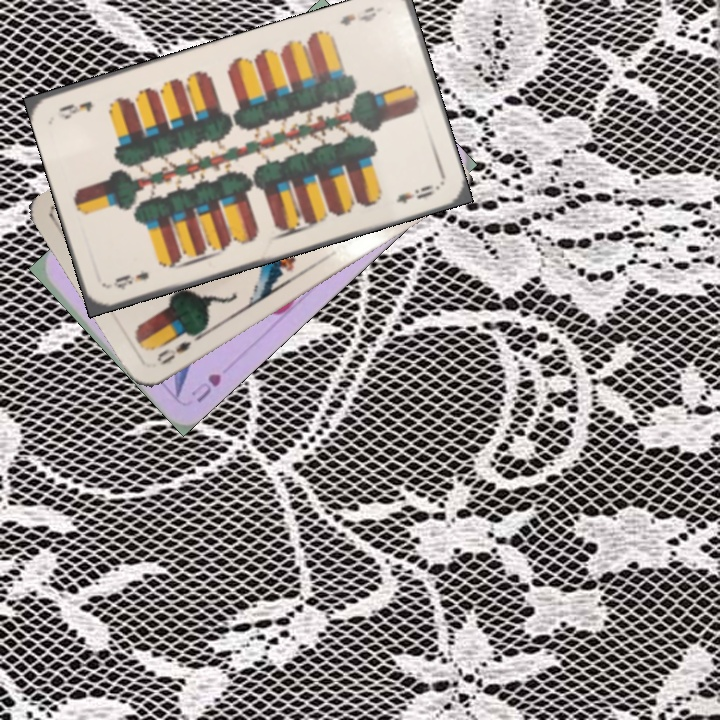E9: (335, 2, 379, 28), (109, 267, 152, 293)
EO: (153, 328, 202, 368)
HU: (187, 369, 224, 405)
